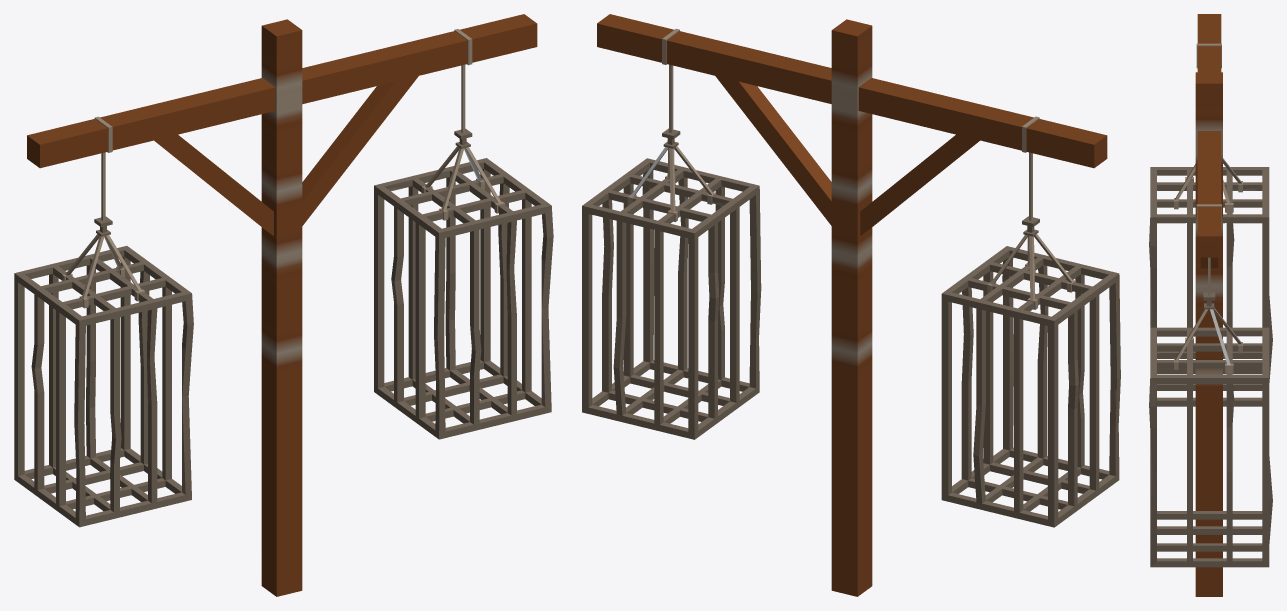
File: kit-lantern-post.glb
3 renders of one model, left to right at view 1: azimuth 30°, elevation 25°; view 2: azimuth 150°, elevation 25°; view 3: azimuth 270°, elevation 25°, orthographic. The views are drawn at different scales.
Parts seen in each view (by area): view 1: Cube.331; view 2: Cube.331; view 3: Cube.331.
Part boxes in pixels (box(x1,y1,x2,y2)): Cube.331: box(14, 14, 553, 596); Cube.331: box(582, 14, 1120, 596); Cube.331: box(1149, 14, 1272, 596).
Size of the model in its own units: 4.23 by 4.56 by 0.9967.
1 material, 1 textured.
